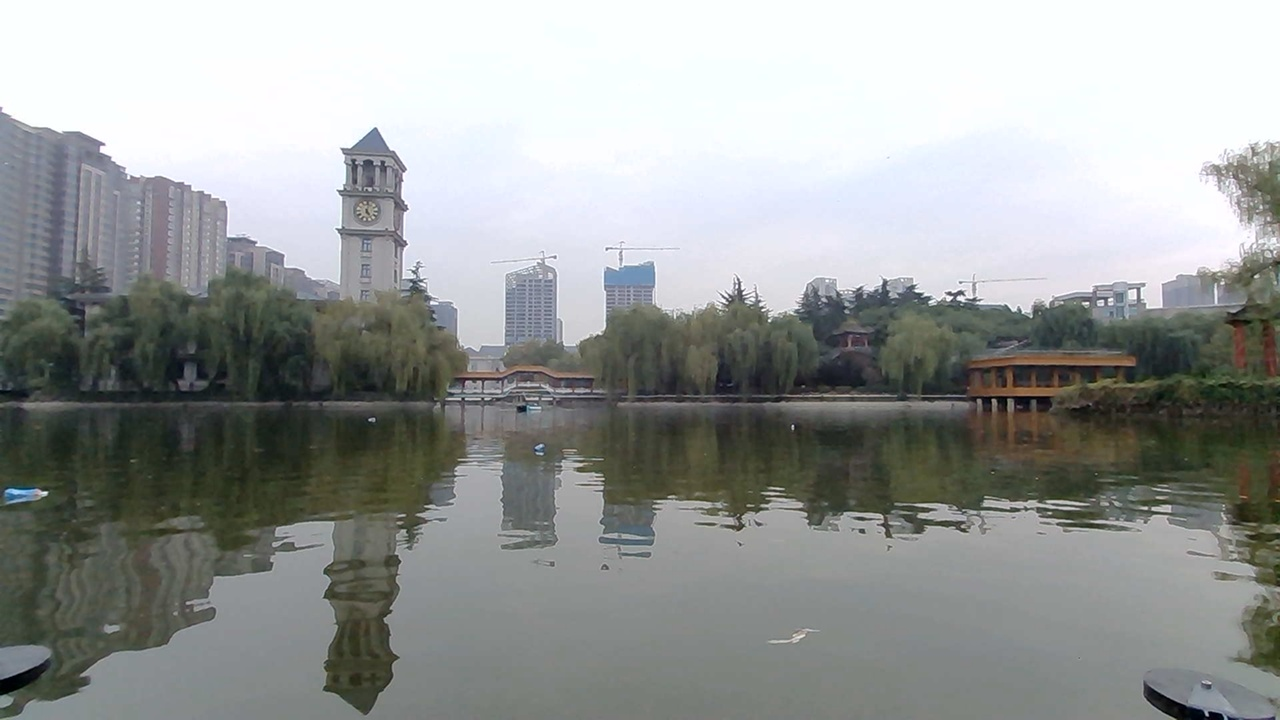bottle: (518, 431, 559, 460), (778, 412, 809, 433), (361, 408, 387, 427)
